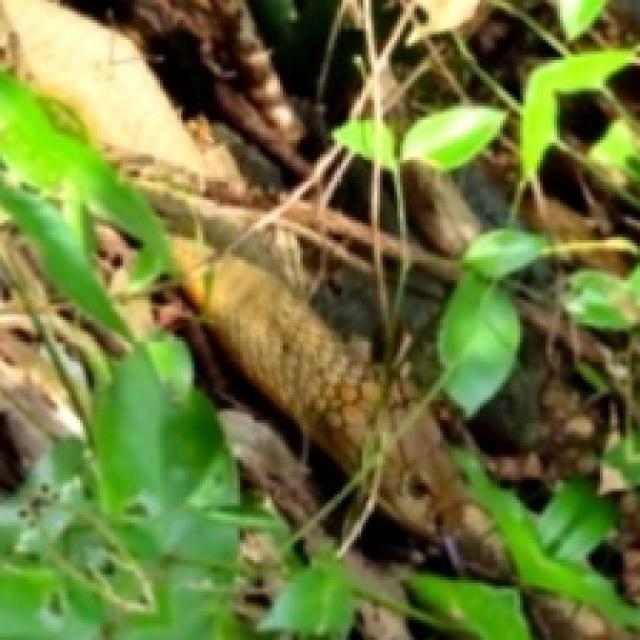king cobra: (1, 0, 244, 196), (177, 242, 378, 469), (380, 412, 468, 534)
